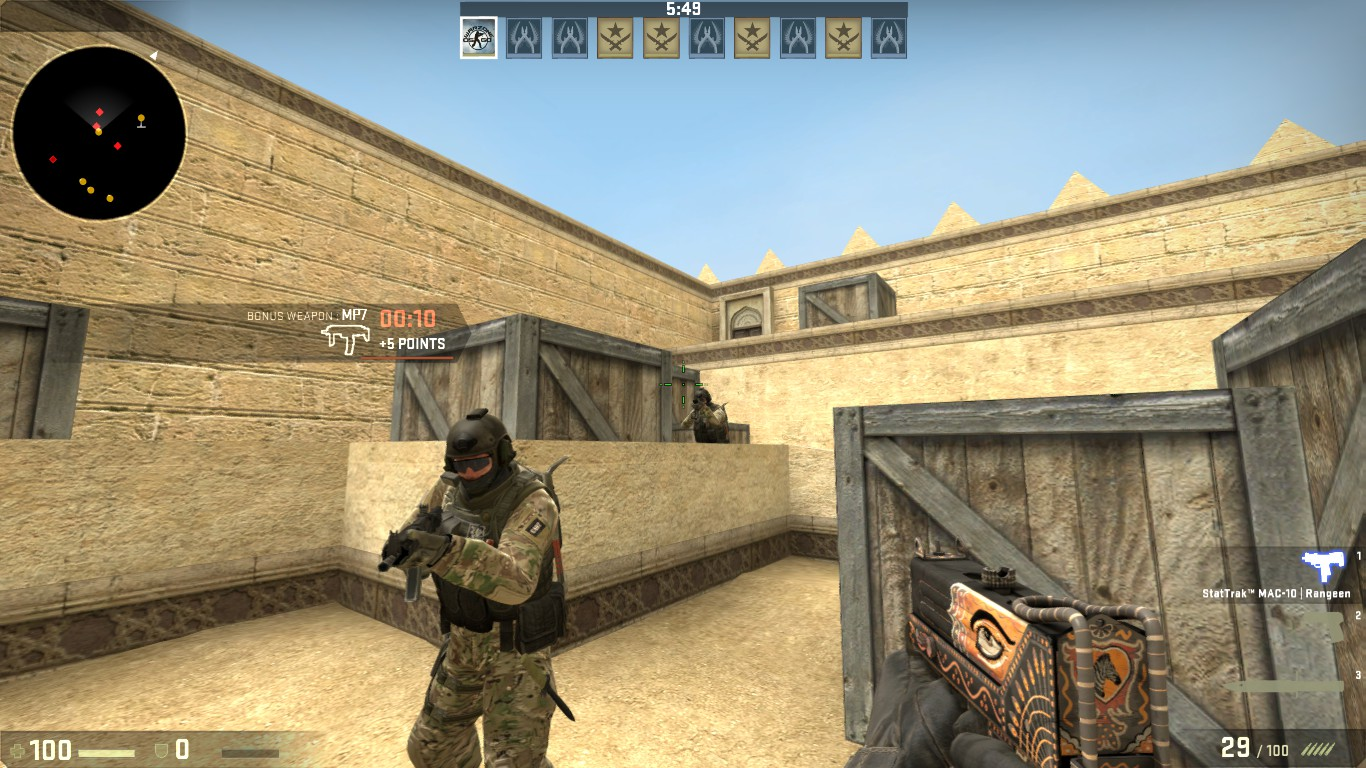c: (381, 402, 574, 768), (675, 387, 738, 450)
ch: (436, 405, 520, 501), (690, 388, 713, 413)
